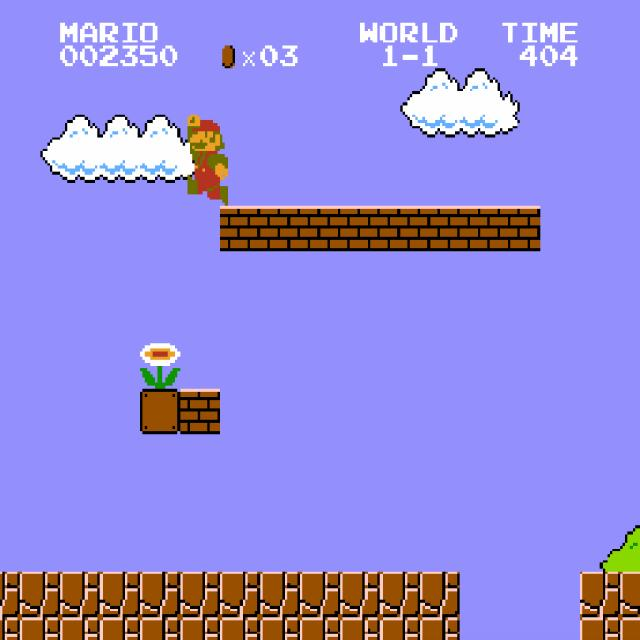big_mario: (185, 111, 227, 206)
brick_block: (180, 389, 220, 434), (220, 206, 260, 251), (260, 206, 300, 251), (300, 206, 340, 251), (340, 206, 380, 251), (380, 206, 420, 251), (420, 206, 460, 251), (460, 206, 500, 251), (500, 206, 540, 251)
empty_block: (140, 389, 180, 434)
flower: (137, 340, 180, 389)
undestructible_block: (20, 572, 60, 617), (60, 572, 100, 617), (100, 572, 140, 617), (140, 572, 180, 617), (180, 572, 220, 617), (220, 572, 260, 617), (260, 572, 300, 617), (300, 572, 340, 617), (340, 572, 380, 617), (380, 572, 420, 617), (420, 572, 460, 617), (580, 572, 620, 617), (20, 617, 60, 640), (60, 617, 100, 640), (100, 617, 140, 640), (140, 617, 180, 640), (180, 617, 220, 640), (220, 617, 260, 640), (260, 617, 300, 640), (300, 617, 340, 640), (340, 617, 380, 640), (380, 617, 420, 640), (420, 617, 460, 640), (580, 617, 620, 640), (0, 572, 20, 617), (620, 572, 640, 617), (0, 617, 20, 640), (620, 617, 640, 640)
